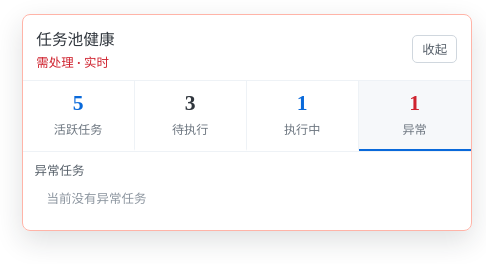
Test: TaskPoolStatusCard › collapses into a compact chip and persists the preference
Click the button with class "collapse-button" at {"x": 435, "y": 49}, box [412,35,457,64]
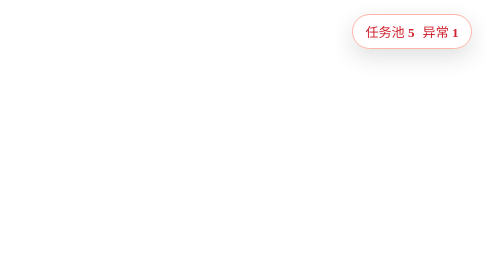
Now the button with class "task-pool-chip" shows "任务池 5", box [352,14,472,49]
